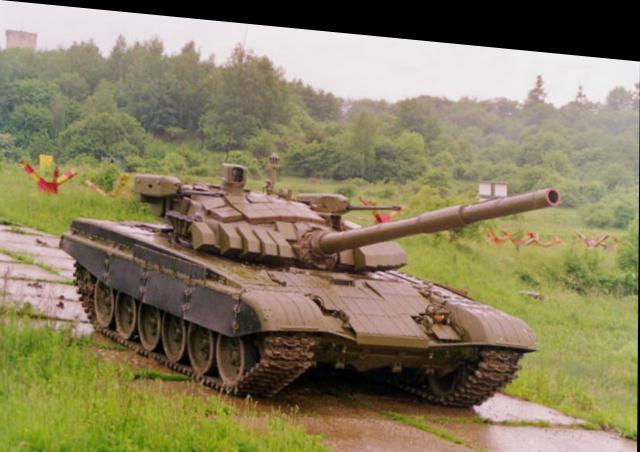tank: (56, 146, 531, 424)
